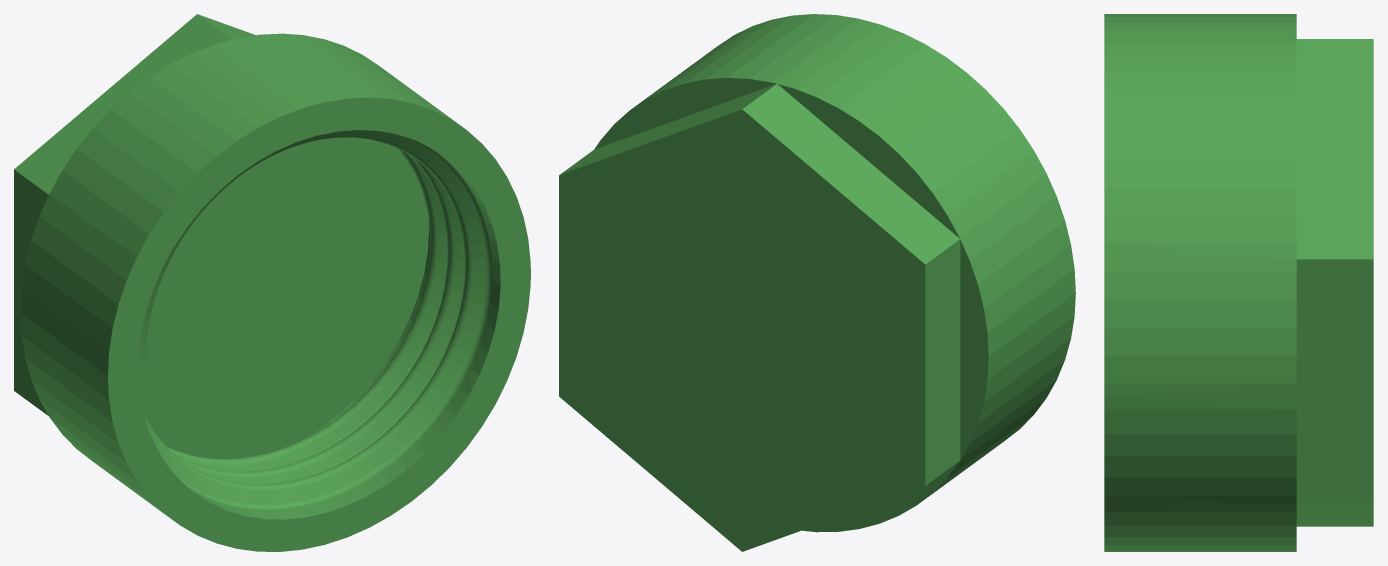
The model's file is endcap_female.glb.
3 views of the same model, side by side, from view 1: azimuth 30°, elevation 25°; view 2: azimuth 150°, elevation 25°; view 3: azimuth 270°, elevation 25° (orthographic). The views are drawn at different scales.
Visible parts, largest first — view 1: world; view 2: world; view 3: world.
Part boxes in pixels (x1,y1,x2,y2): world: (14,14,530,551); world: (559,14,1075,551); world: (1104,14,1373,551).
Size of the model in its own units: 88.9 by 88.9 by 44.45.
